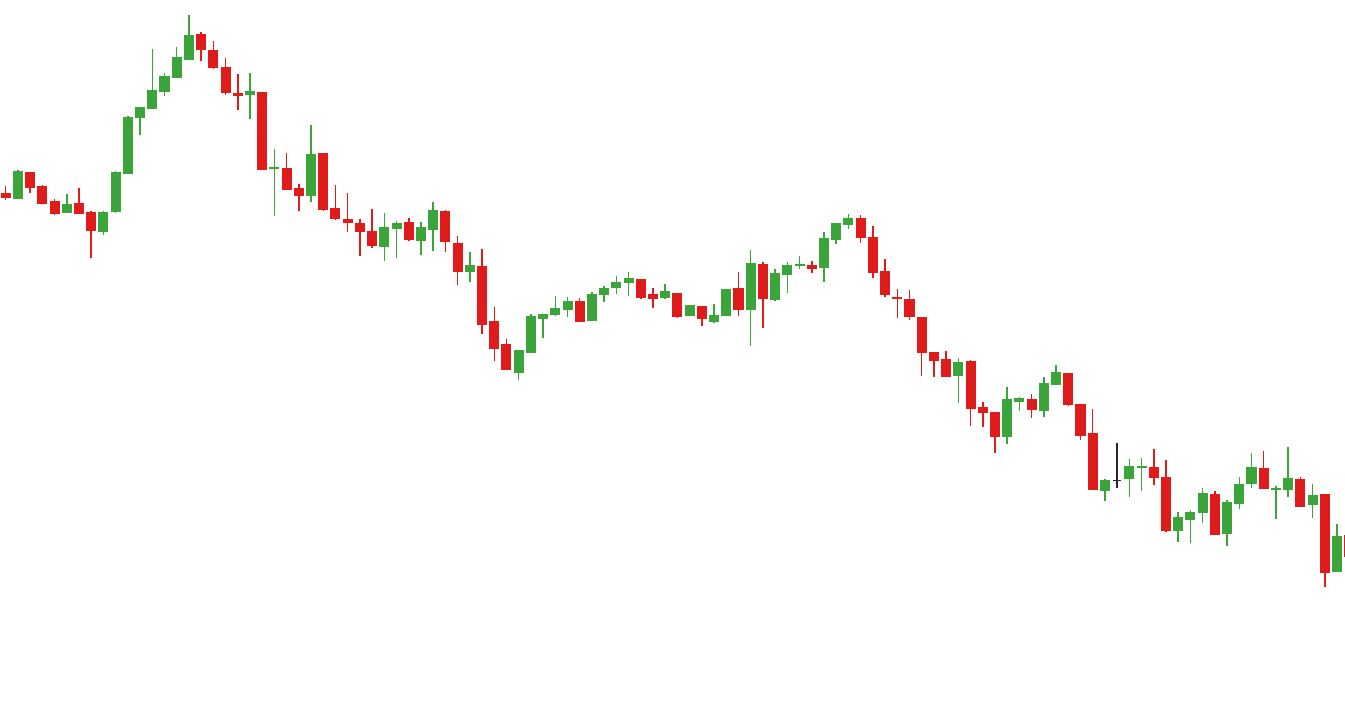sell: (1147, 445, 1271, 521)
